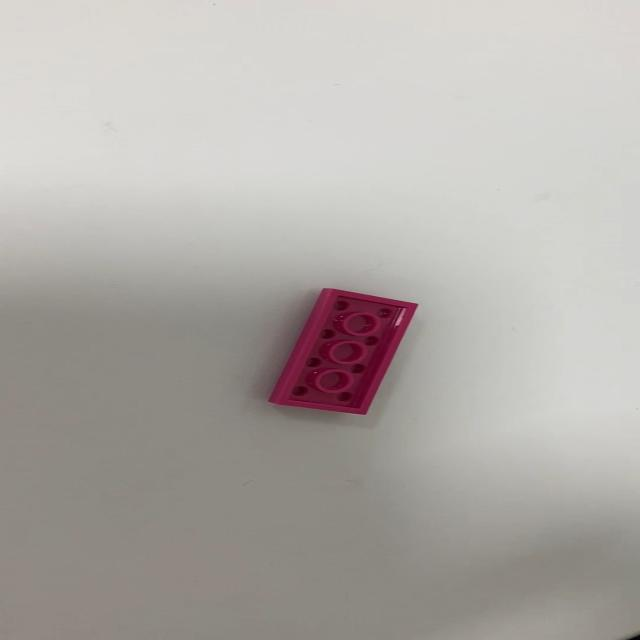C4x2x0: (266, 287, 419, 416)
